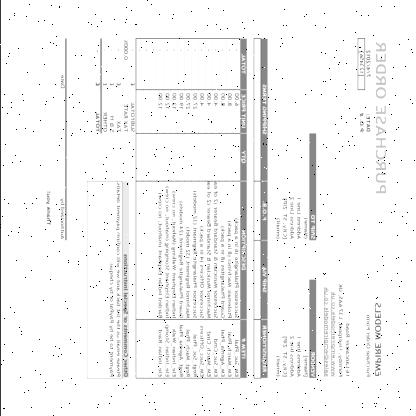Paragraph: (356, 38, 386, 194), (107, 180, 129, 378), (93, 38, 135, 134), (322, 282, 350, 378), (274, 196, 316, 240), (274, 335, 316, 378), (364, 302, 382, 378), (44, 191, 50, 226)
Table: (156, 39, 246, 378)
